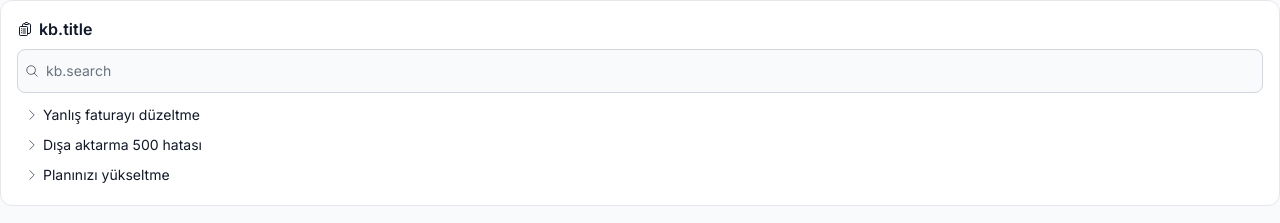
Scenario: KbPanel › tüm makaleleri listeler ve aramayla filtreler
The width and height of the screenshot is (1280, 223).
Expected: the text "Yanlış faturayı düzeltme" is shown, x1=43 y1=106 x2=200 y2=123
Expected: the text "Planınızı yükseltme" is shown, x1=43 y1=166 x2=170 y2=183
Type "500" into the field with placeholder "kb.search" at (640, 71), box x1=17 y1=49 x2=1263 y2=93
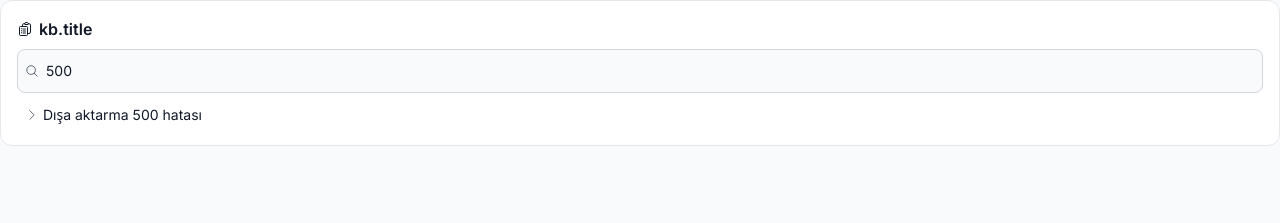
Expected: the text "Dışa aktarma 500 hatası" is shown, x1=43 y1=106 x2=202 y2=123
Expected: the button "Planınızı yükseltme" is gone
Expected: the button "Yanlış faturayı düzeltme" is gone
